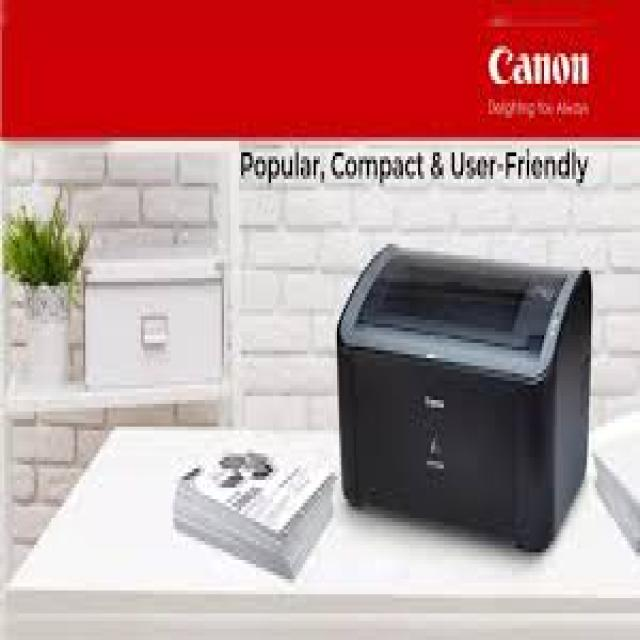printer: (335, 240, 591, 552)
